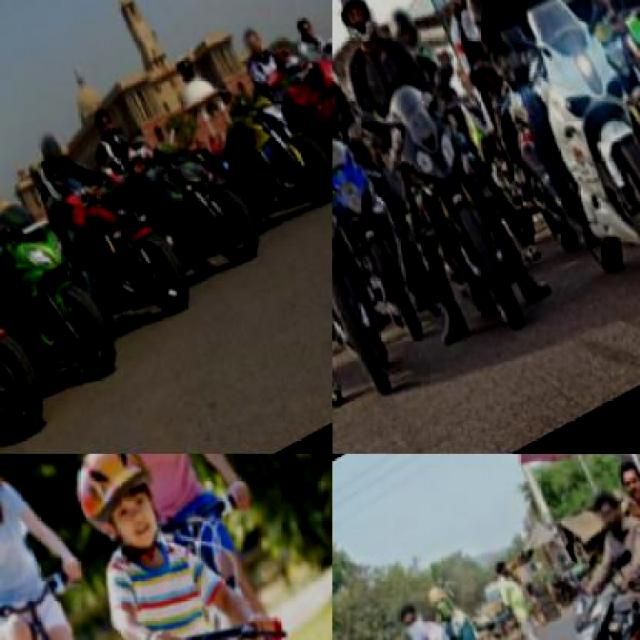With Helmet: (51, 454, 197, 572), (379, 0, 435, 58), (332, 0, 394, 49)
Without Helmet: (582, 477, 638, 541), (388, 586, 446, 639), (91, 99, 129, 144), (37, 126, 74, 166), (238, 21, 272, 59), (296, 10, 324, 42)
